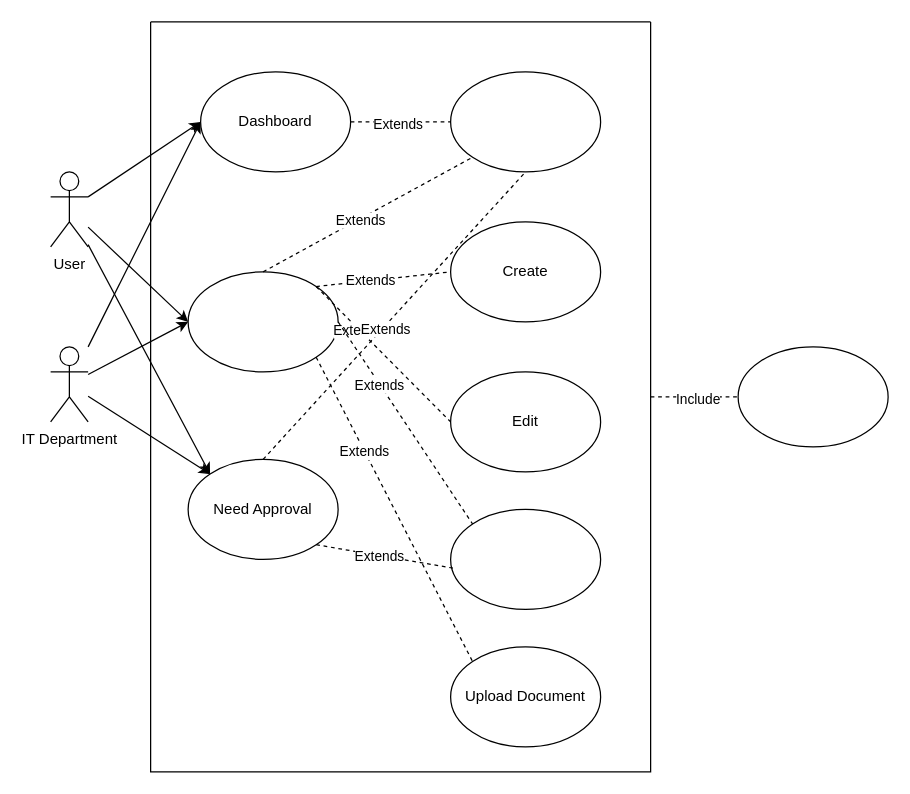
Some shapes in this 910 by 794 pixel diagram are drawn without their labels. The shapes that lost their labels are listed below. From the top down, each one's centre as x and y in pixels, then its label:
At [525,121]: "View".
At [262,321]: "Project".
At [812,396]: "Login".
At [525,558]: "Approval (Reject /Revise /Approve)".
